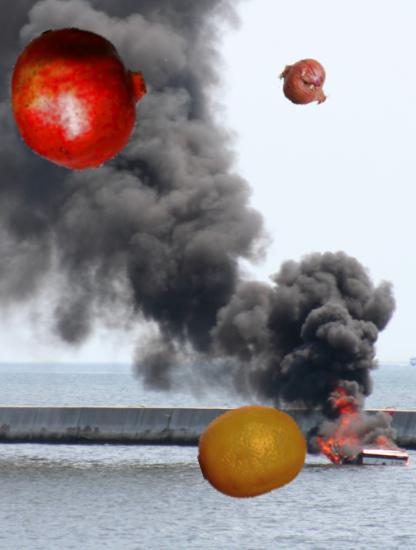Lemon: (198, 395, 309, 506)
Onion: (277, 54, 334, 111)
Pomegranate: (6, 24, 152, 170)
